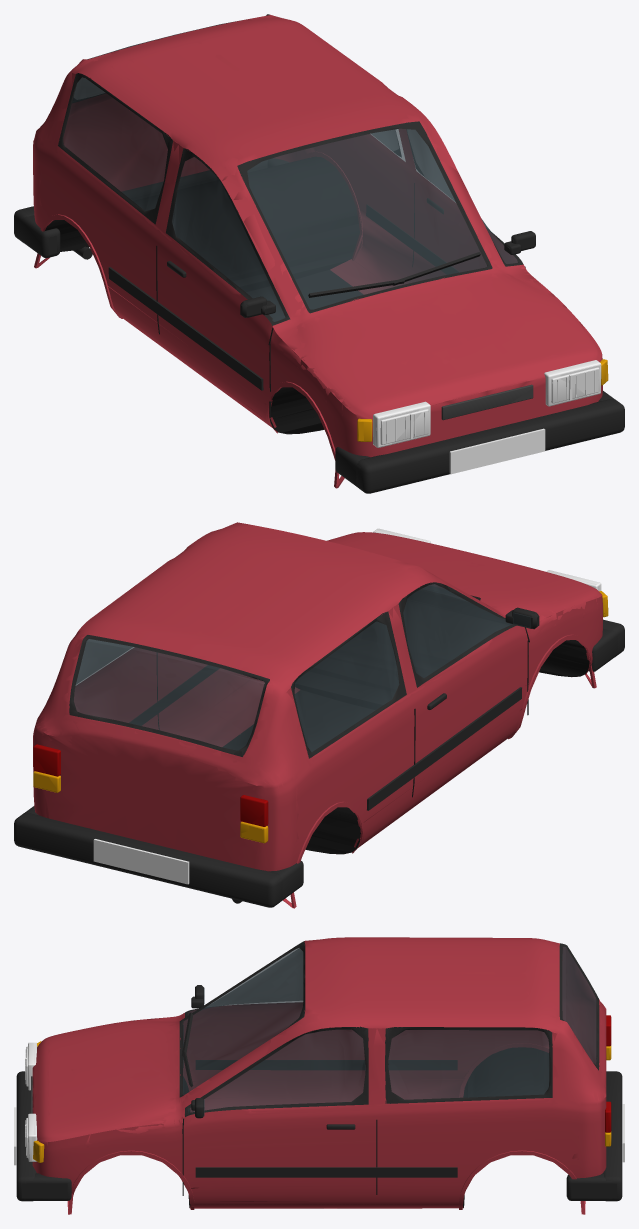
File: oka.glb
The picture shows the model from 3 angles, top to bottom: view 1: azimuth 30°, elevation 25°; view 2: azimuth 150°, elevation 25°; view 3: azimuth 270°, elevation 25°; orthographic projection. The views are drawn at different scales.
Visible parts, largest first — view 1: LOD_hi, LOD0; view 2: LOD_hi, LOD0; view 3: LOD_hi, LOD0.
Part boxes in pixels (x1,y1,x2,y2): LOD_hi: (14,14,624,493); LOD0: (34,14,608,487); LOD_hi: (14,522,624,908); LOD0: (33,522,608,908); LOD_hi: (14,937,624,1213); LOD0: (14,939,624,1214).
Size of what is drawn, in the model's own units: 1.62 by 1.2 by 3.41.
